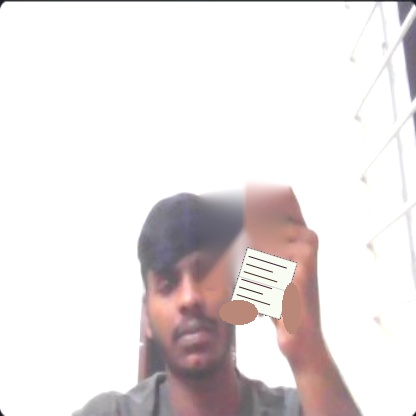cheat_chit: (229, 247, 297, 320)
